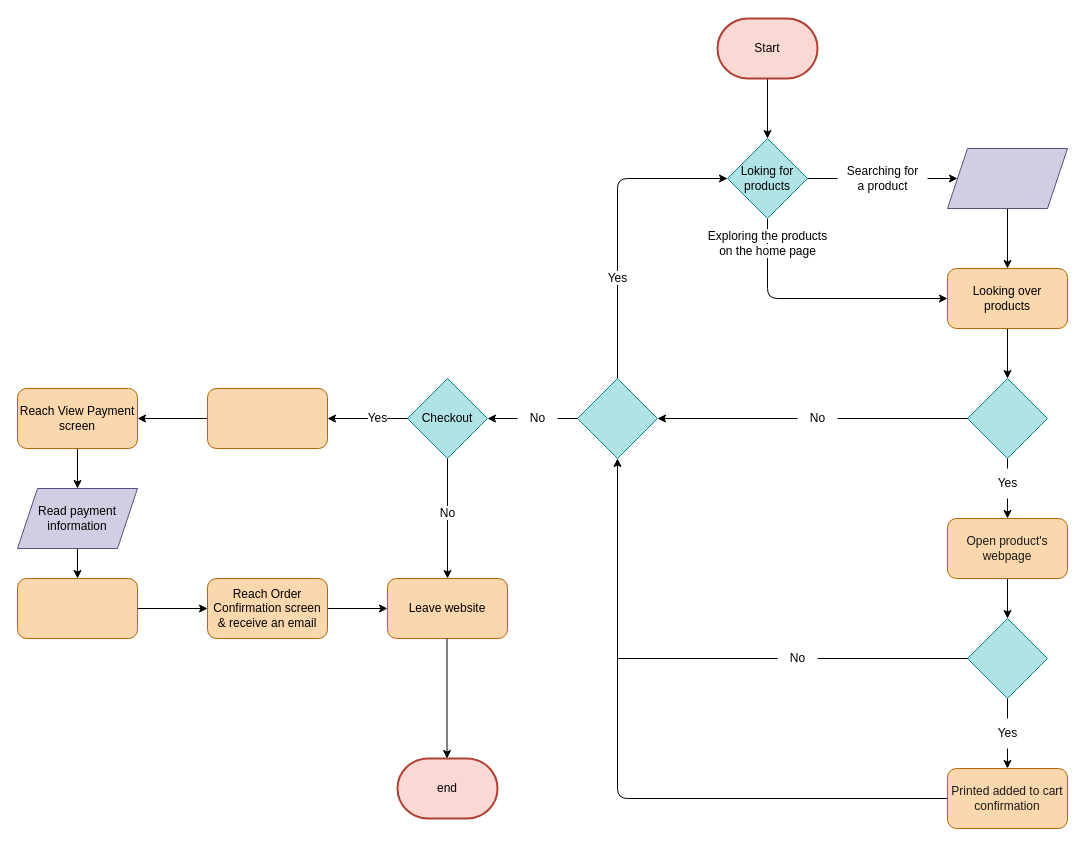
This 1085x846 diagram has some shape labels left out. The centre of each missing label's shape, as x and y in pixels:
Add item to cart: the point at 1007,658
Continue shopping: the point at 617,418
Paid: the point at 77,608
Reach View Cart screen: the point at 267,418
Read name of product: the point at 1007,178
View a specific product: the point at 1007,418
